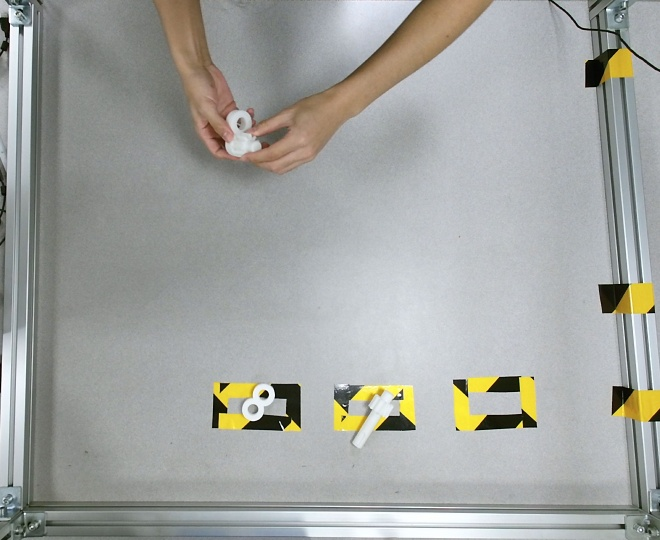stage_2: (224, 110, 262, 156)
